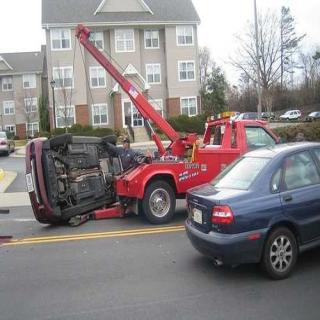Towing_truck: (24, 22, 281, 227)
